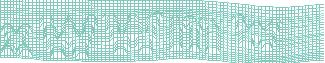W: (102, 10, 164, 57), (38, 14, 98, 61)
m: (169, 13, 222, 57)
w: (229, 11, 283, 52)
x: (1, 21, 32, 59)
